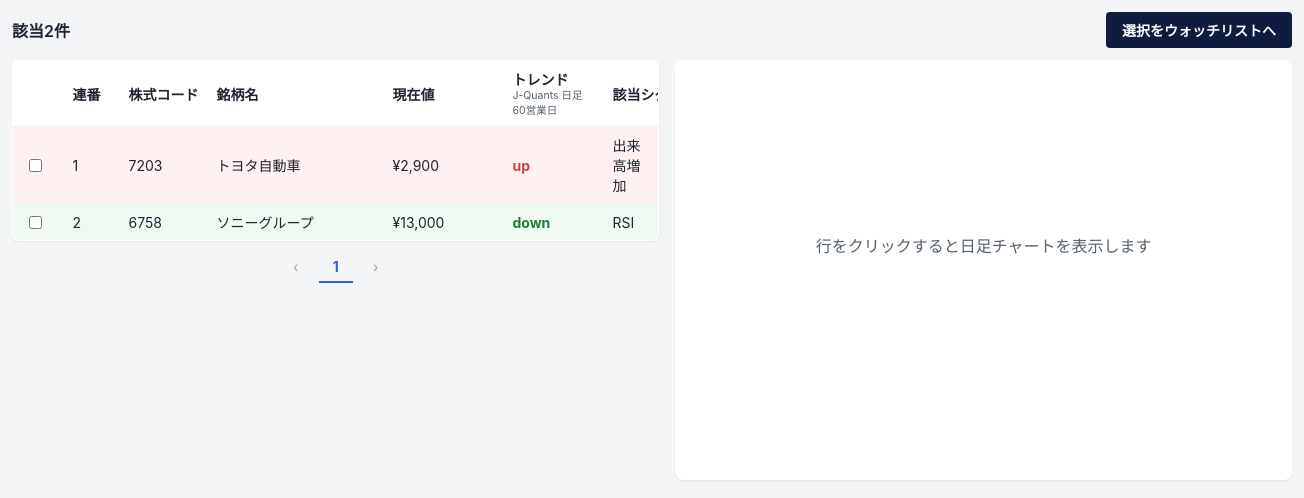
Scenario: ScreeningResultsPanel register › marks submitted rows 登録済み and clears the selection
This screenshot has width=1304, height=498.
Click the checkbox named "7203を選択" at (36, 165), box [29,159,42,172]
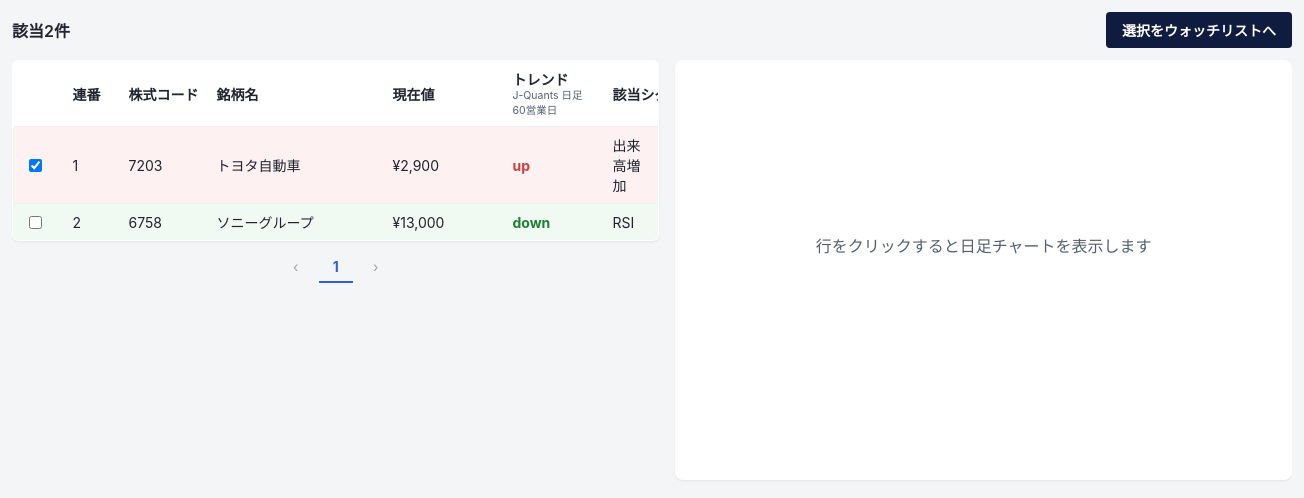
Click the button "選択をウォッチリストへ" at (1199, 30), box [1106,12,1292,48]
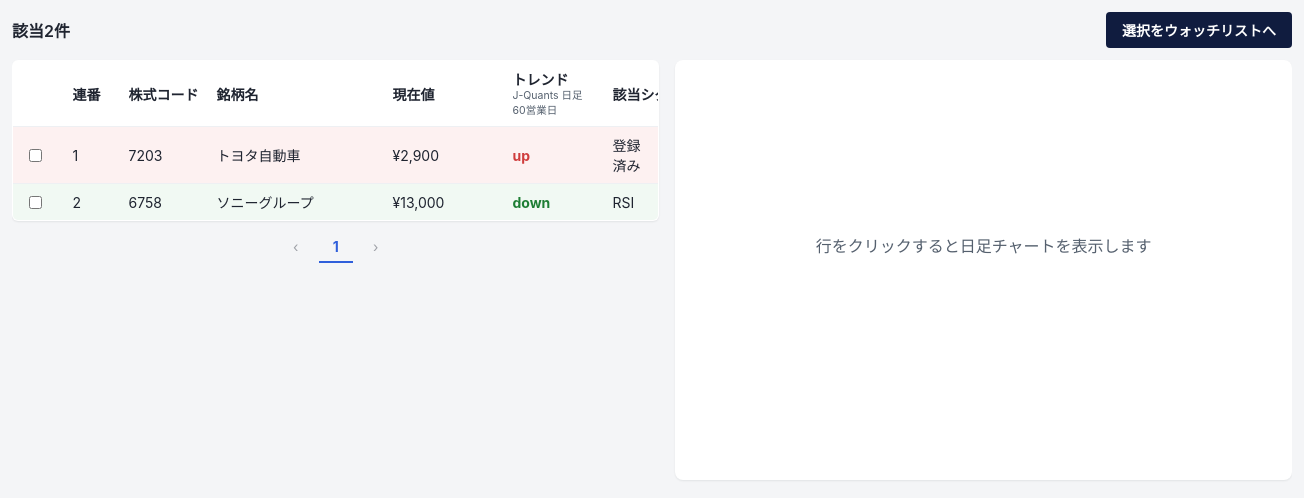
Expected: the text "登録済み" is shown once, [600,127,659,184]
Now the checkbox named "7203を選択" is not checked, box [29,149,42,162]
Now the text "登録済み" is shown, box [600,127,659,184]
